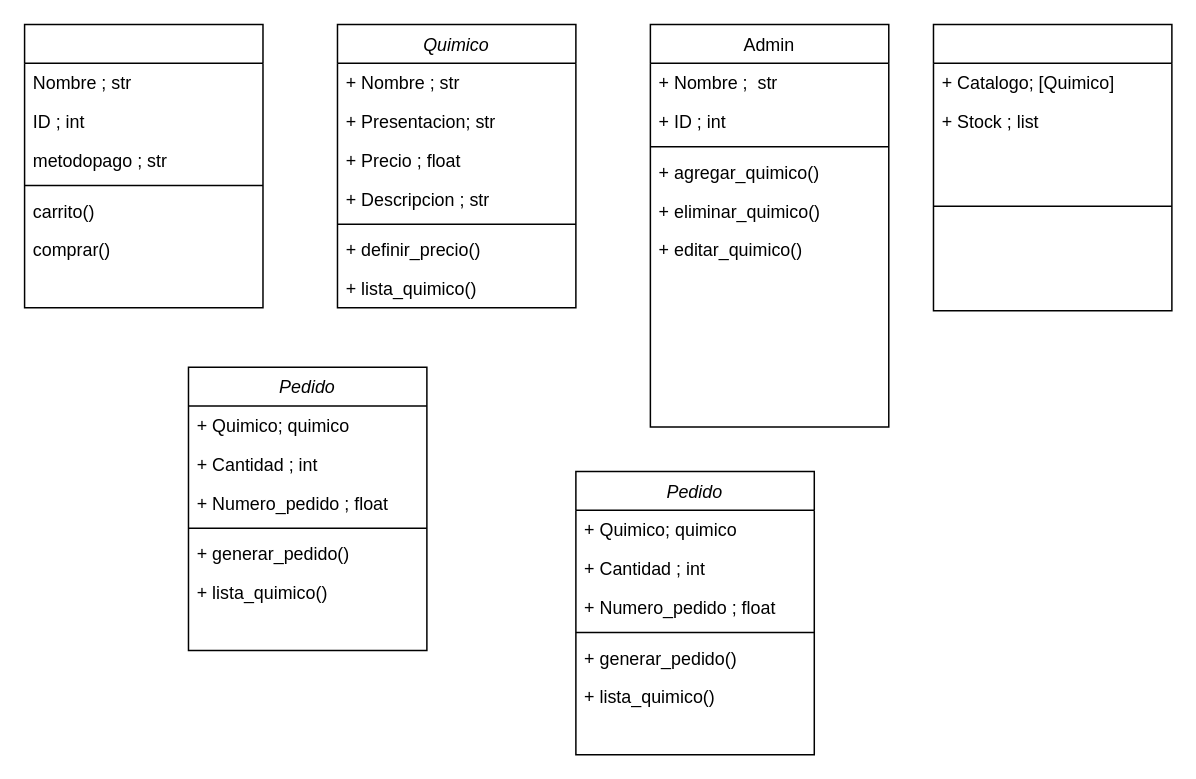
The diagram is 1196 pixels wide and 779 high, and some of its shapes have lost their labels. Each missing label, with the box of its shape:
Cliente: (23, 23, 263, 308)
Tienda: (932, 23, 1172, 311)
